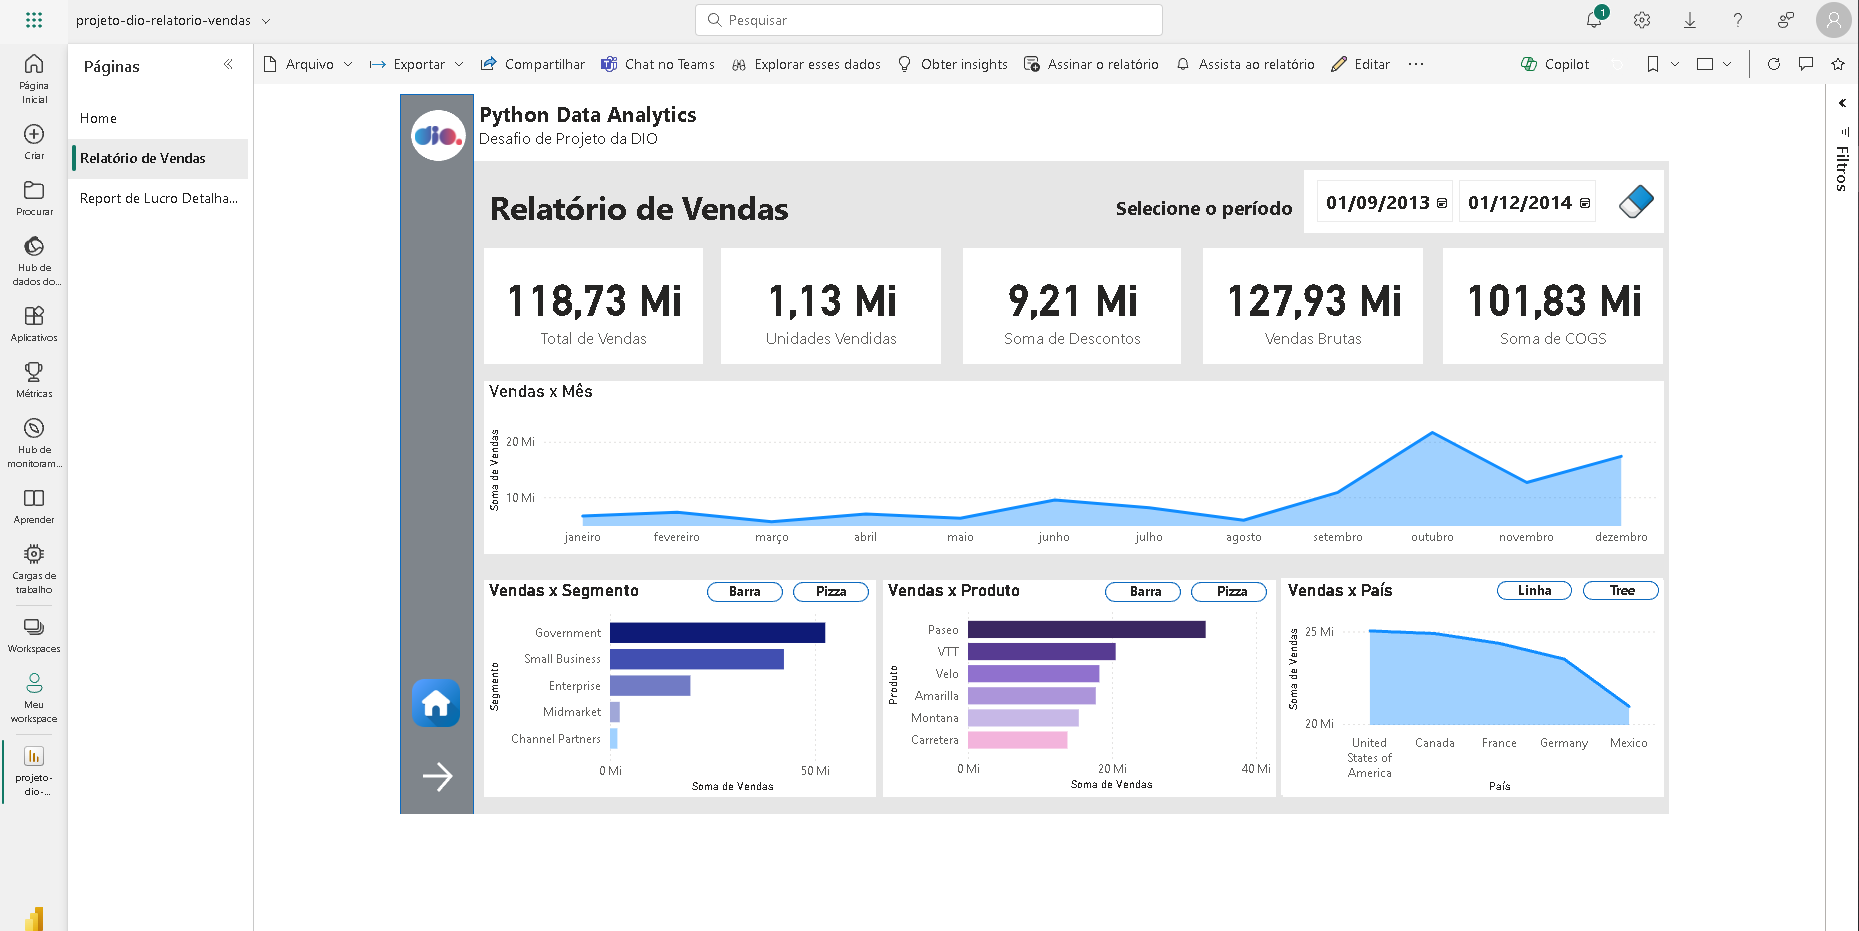

Layout of this report page (visuals, bound fields, positions):
{"tool":"powerbi","page":{"name":"Relatório de Vendas","canvas":[1280,720],"ordinal":1},"visuals":[{"type":"shape","title":"Background","box":[0,54.3,1268.6,665.7],"z":0},{"type":"shape","title":"Barra lateral","box":[0,0,74.3,721.4],"z":1000},{"type":"card","title":"Cartão - Soma de COGS","fields":{"Values":["Sum(financials.COGS)"]},"box":[1042.9,154.3,220,115.7],"z":2000},{"type":"card","title":"Cartão - Vendas Brutas","fields":{"Values":["Sum(financials.Gross Sales)"]},"box":[802.9,154.3,220,115.7],"z":3000},{"type":"card","title":"Cartão - Descontos","fields":{"Values":["Sum(financials.Discounts)"]},"box":[562.9,154.3,218.6,115.7],"z":4000},{"type":"card","title":"Cartão - Unidades","fields":{"Values":["Sum(financials.Units Sold)"]},"box":[321.4,154.3,220,115.7],"z":5000},{"type":"card","title":"Cartão - Total de Vendas","fields":{"Values":["Sum(financials. Sales)"]},"box":[84.3,154.3,218.6,115.7],"z":6000},{"type":"areaChart","title":"Vendas x Mês","fields":{"Y":["Sum(financials. Sales)"],"Category":["financials.Date.Variation.Hierarquia de datas.Mês"]},"box":[84.3,287.1,1180,172.9],"z":7000},{"type":"treemap","title":"Vendas x Pais","fields":{"Group":["financials.Country"],"Values":["Sum(financials. Sales)"]},"box":[881.4,484.3,381.4,217.1],"z":8000},{"type":"areaChart","title":"Vendas x País","fields":{"Category":["financials.Country"],"Y":["Sum(financials. Sales)"]},"box":[882.9,485.7,381.4,217.1],"z":9000},{"type":"donutChart","title":"Vendas x Produto","fields":{"Category":["financials.Product"],"Y":["Sum(financials. Sales)"]},"box":[482.9,487.1,392.9,215.7],"z":10000},{"type":"clusteredBarChart","title":"Vendas x Produto","fields":{"Y":["Sum(financials. Sales)"],"Category":["financials.Product"]},"box":[482.9,485.7,392.9,215.7],"z":11000},{"type":"pieChart","title":"Vendas x Segmento","fields":{"Category":["financials.Segment"],"Y":["Sum(financials. Sales)"]},"box":[84.3,485.7,391.4,217.1],"z":12000},{"type":"clusteredBarChart","title":"Vendas x Segmento","fields":{"Y":["Sum(financials. Sales)"],"Category":["financials.Segment"]},"box":[84.3,485.7,391.4,217.1],"z":13000},{"type":"group","id":"g1","title":"Periodo","box":[690,75.7,574.3,62.9],"z":14000},{"type":"group","id":"g2","title":"Logo-DIO","box":[10,15.7,57.1,51.4],"z":15000},{"type":"textbox","title":"Titulo - Relatorio","box":[84.3,85.7,322.9,65.7],"z":16000},{"type":"textbox","title":"Titulo - Desafio DIO","box":[74.3,0,1210,67.1],"z":17000},{"type":"shape","title":"Forma Tree","box":[1182.9,486.8,75.8,19.7],"z":18000},{"type":"shape","title":"Forma Mapa","box":[1096.5,486.8,75.8,19.7],"z":19000},{"type":"shape","title":"Forma Pizza 02","box":[791.2,488.3,75.8,19.7],"z":20000},{"type":"shape","title":"circulo","box":[11.1,15.7,55,51.4],"z":21000,"group":"g2"},{"type":"shape","title":"Forma Barra 02","box":[704.8,488.3,75.8,19.7],"z":21000},{"type":"image","title":"logo-dio","box":[10,18,57.1,46.9],"z":21500,"group":"g2"},{"type":"shape","title":"Forma Pizza 01","box":[393.5,487.9,75.8,19.7],"z":22000},{"type":"slicer","fields":{"Values":["financials.Date"]},"box":[904.3,75.7,360,62.9],"z":23000,"group":"g1"},{"type":"shape","title":"Forma Barra 01","box":[307.1,487.9,75.8,19.7],"z":23000},{"type":"image","title":"borracha","box":[1210,84.3,54.3,45.7],"z":23500,"group":"g1"},{"type":"textbox","box":[690,95.7,228.6,42.9],"z":24000,"group":"g1"},{"type":"textbox","title":"Caixa Tree","box":[1189,481.8,66.7,30],"z":24000},{"type":"textbox","title":"Caixa Mapa","box":[1102.4,481.8,66.7,30],"z":25000},{"type":"textbox","title":"Caixa Pizza 02","box":[799.8,483.2,66.7,30],"z":26000},{"type":"textbox","title":"Caixa Barra 02","box":[713.1,483.2,66.7,30],"z":27000},{"type":"textbox","title":"Caixa Pizza 01","box":[398.3,482.5,66.7,30],"z":28000},{"type":"textbox","title":"Caixa Barra 01","box":[311.7,482.5,66.7,30],"z":29000},{"type":"actionButton","title":"Botão - Tree","box":[1182.9,481.4,80,28.6],"z":30000},{"type":"actionButton","title":"Botão - Mapa","box":[1093.6,484.1,79.9,28.2],"z":31000},{"type":"actionButton","title":"Botão - Pizza 02","box":[788.6,484.3,80,28.6],"z":32000},{"type":"actionButton","title":"Botão - Barra 02","box":[702.9,484.3,80,28.6],"z":33000},{"type":"actionButton","title":"Botão - Pizza 01","box":[391.4,485.7,80,28.6],"z":34000},{"type":"actionButton","title":"Botão - Barra 01","box":[302.9,484.3,80,28.6],"z":35000},{"type":"actionButton","title":"Botão - Clean","box":[1208.6,78.6,50,40],"z":36000},{"type":"actionButton","box":[17.1,662.9,50,40],"z":37000},{"type":"image","box":[3.3,580,66.7,58.3],"z":38000},{"type":"actionButton","box":[0,580,75,58.3],"z":39000}]}

Visuals, with their boxes on the page's 1280x720 design canvas (x1, y1, x2, y2). These are canvas units, not pixel positions in the 1859x931 screenshot, which may show the page scaled, cropped or inside an application window:
"Background" shape: [left=0, top=54, right=1269, bottom=720]
"Barra lateral" shape: [left=0, top=0, right=74, bottom=721]
"Cartão - Soma de COGS" card: [left=1043, top=154, right=1263, bottom=270]
"Cartão - Vendas Brutas" card: [left=803, top=154, right=1023, bottom=270]
"Cartão - Descontos" card: [left=563, top=154, right=782, bottom=270]
"Cartão - Unidades" card: [left=321, top=154, right=541, bottom=270]
"Cartão - Total de Vendas" card: [left=84, top=154, right=303, bottom=270]
"Vendas x Mês" areaChart: [left=84, top=287, right=1264, bottom=460]
"Vendas x Pais" treemap: [left=881, top=484, right=1263, bottom=701]
"Vendas x País" areaChart: [left=883, top=486, right=1264, bottom=703]
"Vendas x Produto" donutChart: [left=483, top=487, right=876, bottom=703]
"Vendas x Produto" clusteredBarChart: [left=483, top=486, right=876, bottom=701]
"Vendas x Segmento" pieChart: [left=84, top=486, right=476, bottom=703]
"Vendas x Segmento" clusteredBarChart: [left=84, top=486, right=476, bottom=703]
"Periodo" group: [left=690, top=76, right=1264, bottom=139]
"Logo-DIO" group: [left=10, top=16, right=67, bottom=67]
"Titulo - Relatorio" textbox: [left=84, top=86, right=407, bottom=151]
"Titulo - Desafio DIO" textbox: [left=74, top=0, right=1284, bottom=67]
"Forma Tree" shape: [left=1183, top=487, right=1259, bottom=506]
"Forma Mapa" shape: [left=1096, top=487, right=1172, bottom=506]
"Forma Pizza 02" shape: [left=791, top=488, right=867, bottom=508]
"circulo" shape: [left=11, top=16, right=66, bottom=67]
"Forma Barra 02" shape: [left=705, top=488, right=781, bottom=508]
"logo-dio" image: [left=10, top=18, right=67, bottom=65]
"Forma Pizza 01" shape: [left=394, top=488, right=469, bottom=508]
slicer - financials.Date: [left=904, top=76, right=1264, bottom=139]
"Forma Barra 01" shape: [left=307, top=488, right=383, bottom=508]
"borracha" image: [left=1210, top=84, right=1264, bottom=130]
textbox: [left=690, top=96, right=919, bottom=139]
"Caixa Tree" textbox: [left=1189, top=482, right=1256, bottom=512]
"Caixa Mapa" textbox: [left=1102, top=482, right=1169, bottom=512]
"Caixa Pizza 02" textbox: [left=800, top=483, right=866, bottom=513]
"Caixa Barra 02" textbox: [left=713, top=483, right=780, bottom=513]
"Caixa Pizza 01" textbox: [left=398, top=482, right=465, bottom=512]
"Caixa Barra 01" textbox: [left=312, top=482, right=378, bottom=512]
"Botão - Tree" actionButton: [left=1183, top=481, right=1263, bottom=510]
"Botão - Mapa" actionButton: [left=1094, top=484, right=1174, bottom=512]
"Botão - Pizza 02" actionButton: [left=789, top=484, right=869, bottom=513]
"Botão - Barra 02" actionButton: [left=703, top=484, right=783, bottom=513]
"Botão - Pizza 01" actionButton: [left=391, top=486, right=471, bottom=514]
"Botão - Barra 01" actionButton: [left=303, top=484, right=383, bottom=513]
"Botão - Clean" actionButton: [left=1209, top=79, right=1259, bottom=119]
actionButton: [left=17, top=663, right=67, bottom=703]
image: [left=3, top=580, right=70, bottom=638]
actionButton: [left=0, top=580, right=75, bottom=638]
